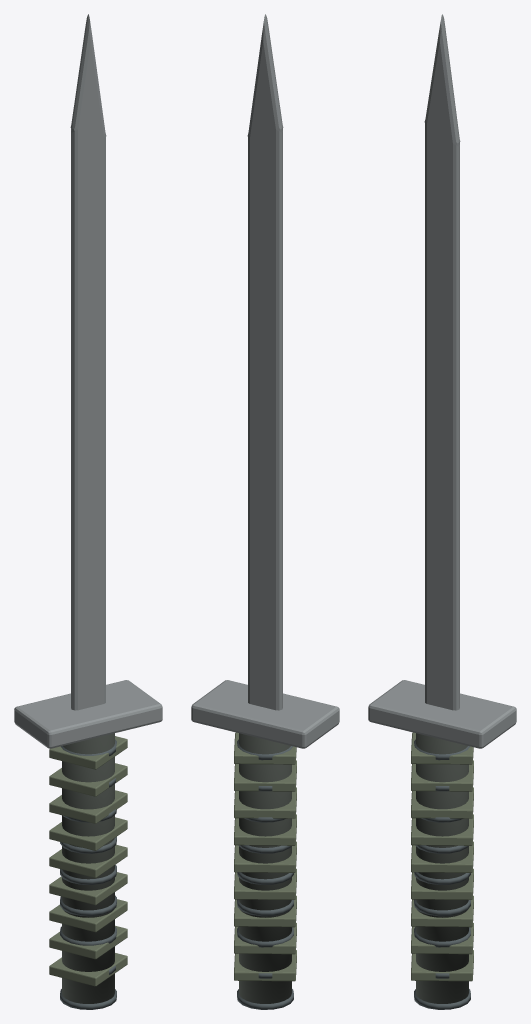
The model's file is katana.fbx.
3 renders of one model, left to right at view 1: azimuth 30°, elevation 25°; view 2: azimuth 150°, elevation 25°; view 3: azimuth 330°, elevation 25°, orthographic.
Parts seen in each view (by area): view 1: Blade, Textured grip, Guard, Tsuka wrapping.005, Tsuka wrapping.004, Tsuka wrapping.003, Tsuka wrapping.006, Tsuka wrapping.002, Tsuka wrapping, Tsuka wrapping.007, Tsuka wrapping.001, Tsuka wrapping.008 (+3 smaller); view 2: Blade, Textured grip, Guard, Tsuka wrapping.005, Tsuka wrapping.004, Tsuka wrapping.006, Tsuka wrapping.003, Tsuka wrapping.002, Tsuka wrapping, Tsuka wrapping.007, Tsuka wrapping.001, Tsuka wrapping.008 (+2 smaller); view 3: Blade, Textured grip, Guard, Tsuka wrapping.005, Tsuka wrapping.004, Tsuka wrapping.006, Tsuka wrapping.003, Tsuka wrapping.002, Tsuka wrapping, Tsuka wrapping.007, Tsuka wrapping.001, Tsuka wrapping.008 (+2 smaller).
Part boxes in pixels (x1,y1,x2,y2): Blade: (70, 14, 106, 710); Textured grip: (62, 733, 114, 1003); Guard: (14, 680, 162, 748); Tsuka wrapping.005: (49, 817, 127, 850); Tsuka wrapping.004: (49, 844, 127, 877); Tsuka wrapping.003: (49, 872, 127, 904); Tsuka wrapping.006: (49, 790, 127, 823); Tsuka wrapping.002: (49, 899, 127, 932); Tsuka wrapping: (49, 953, 127, 986); Tsuka wrapping.007: (49, 763, 127, 796); Tsuka wrapping.001: (49, 925, 127, 959); Tsuka wrapping.008: (49, 736, 127, 769); Blade: (247, 14, 283, 710); Textured grip: (239, 733, 291, 1003); Guard: (191, 680, 339, 748); Tsuka wrapping.005: (234, 814, 296, 845); Tsuka wrapping.004: (234, 841, 296, 872); Tsuka wrapping.006: (234, 787, 296, 818); Tsuka wrapping.003: (234, 868, 296, 899); Tsuka wrapping.002: (234, 895, 296, 927); Tsuka wrapping: (234, 950, 296, 981); Tsuka wrapping.007: (234, 760, 296, 791); Tsuka wrapping.001: (234, 923, 296, 954); Tsuka wrapping.008: (234, 732, 296, 764); Blade: (424, 14, 460, 710); Textured grip: (416, 733, 468, 1003); Guard: (368, 680, 516, 748); Tsuka wrapping.005: (411, 814, 473, 845); Tsuka wrapping.004: (411, 841, 473, 872); Tsuka wrapping.006: (411, 787, 473, 818); Tsuka wrapping.003: (411, 868, 473, 899); Tsuka wrapping.002: (411, 895, 473, 927); Tsuka wrapping: (411, 950, 473, 981); Tsuka wrapping.007: (411, 760, 473, 791); Tsuka wrapping.001: (411, 923, 473, 954); Tsuka wrapping.008: (411, 732, 473, 764).
Size of the model in its own units: 12 by 98.02 by 6.99.
